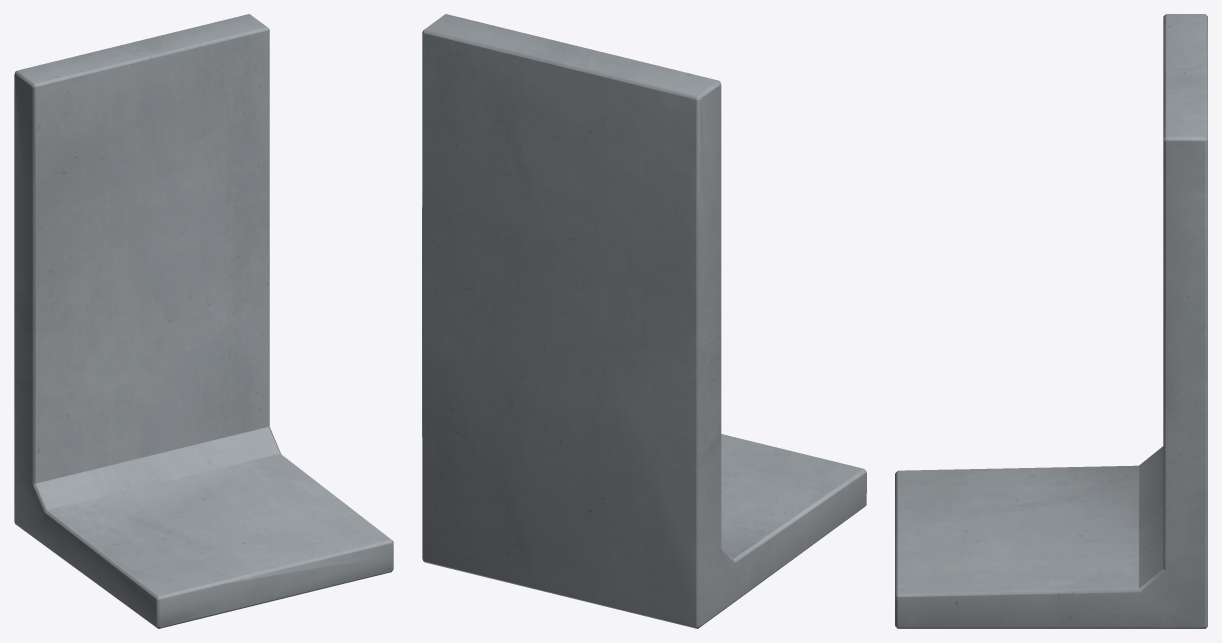
The model's file is Mur Oporowy 02.glb.
3 renders of one model, left to right at view 1: azimuth 30°, elevation 25°; view 2: azimuth 150°, elevation 25°; view 3: azimuth 270°, elevation 25°, orthographic. The views are drawn at different scales.
Parts seen in each view (by area): view 1: Angle 309; view 2: Angle 309; view 3: Angle 309.
Part boxes in pixels (<box>): Angle 309: <box>14,14,393,628</box>; Angle 309: <box>422,14,866,628</box>; Angle 309: <box>895,14,1207,628</box>.
Bounding box in the file's own units: 2 × 3.66 × 2.11.
1 material, 1 textured.
